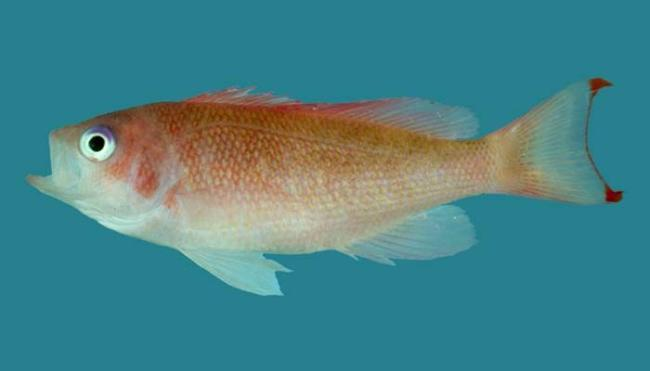fish: (24, 76, 625, 296)
